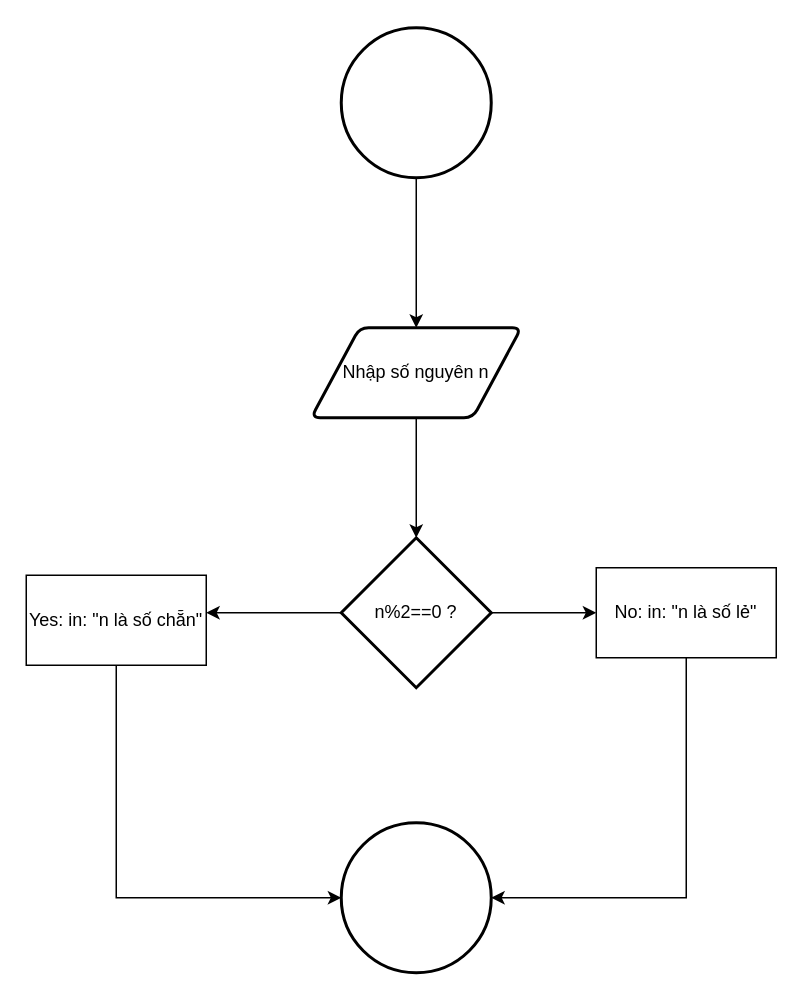
The diagram is 803 pixels wide and 999 high, and some of its shapes have lost their labels. The centre of each missing label's shape, as x and y in pixels:
End: point (415, 897)
Start: point (415, 102)
